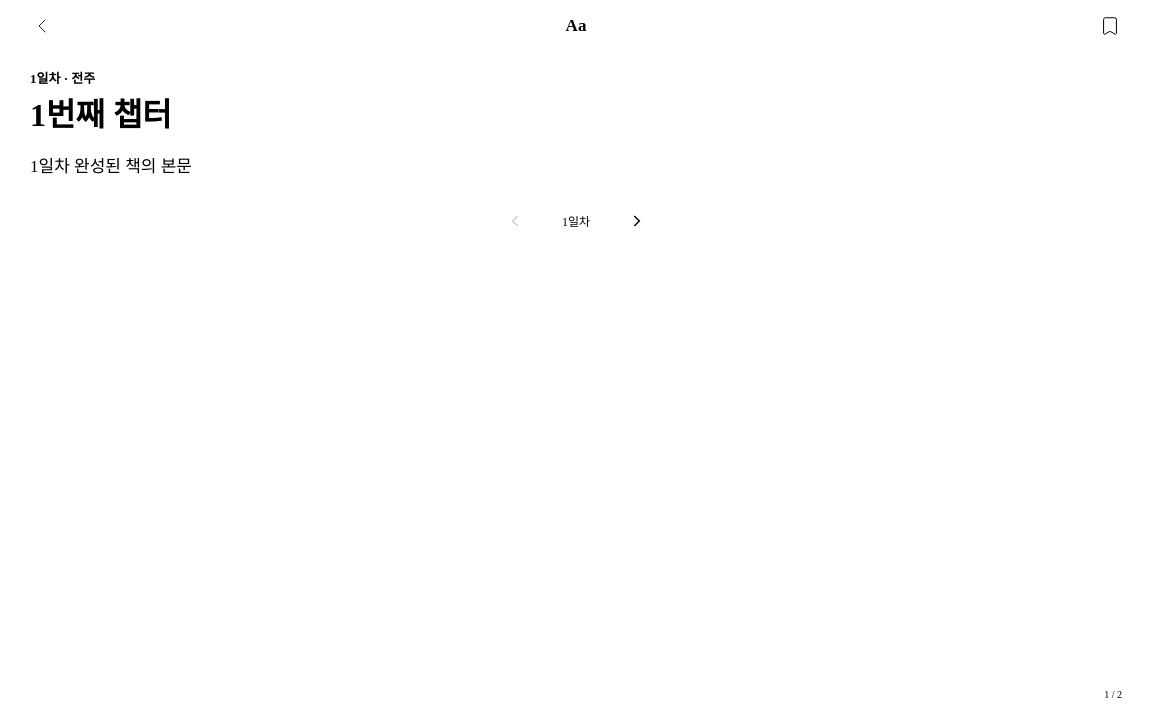
Test: 책으로 엮은 뒤 일차 이동 › 완성된 책에서도 보이는 화살표로 실제 다음·이전 이야기 본문을 읽는다
The image size is (1152, 720).
Expected: the button named "이전 일차 이야기" is disabled, [494,198,538,242]
Expected: the 2nd icon is shown, [626,210,646,230]
Click the button named "다음 일차 이야기" at (636, 220), box [614,198,658,242]
Wait 100 ms
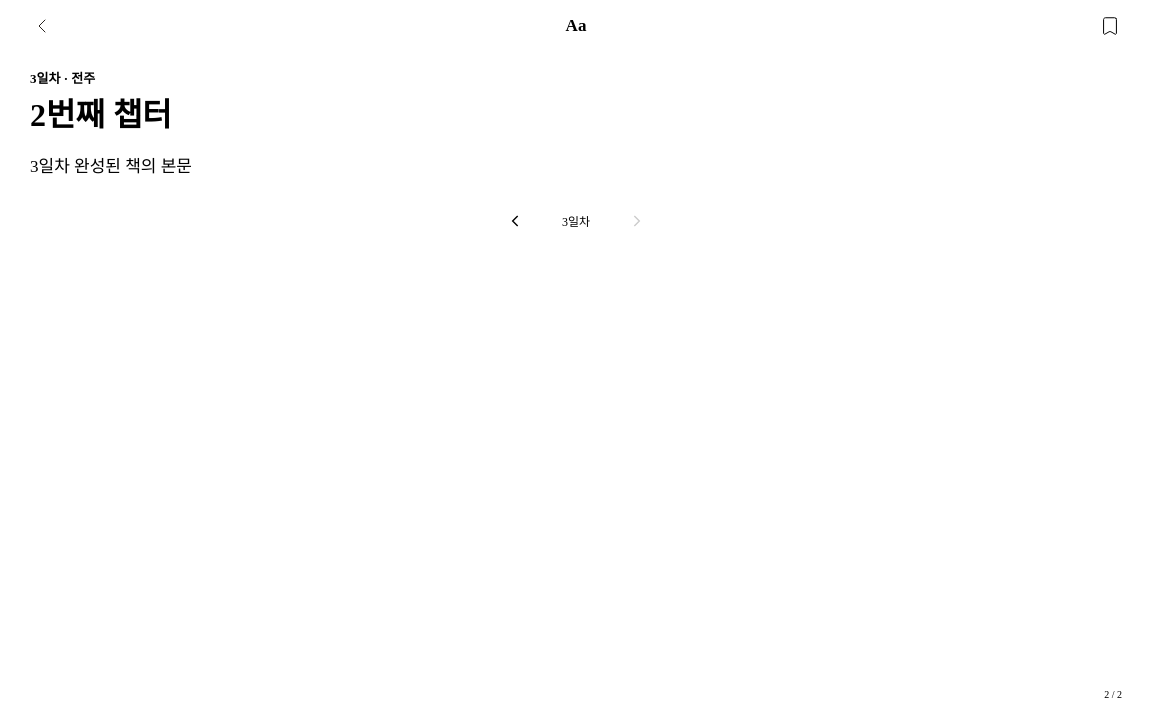
Now the text "3일차 완성된 책의 본문" is shown, box [30,157,192,176]
Now the button named "다음 일차 이야기" is disabled, box [614,198,658,242]
Click the button named "이전 일차 이야기" at (516, 220), box [494,198,538,242]
Wait 100 ms
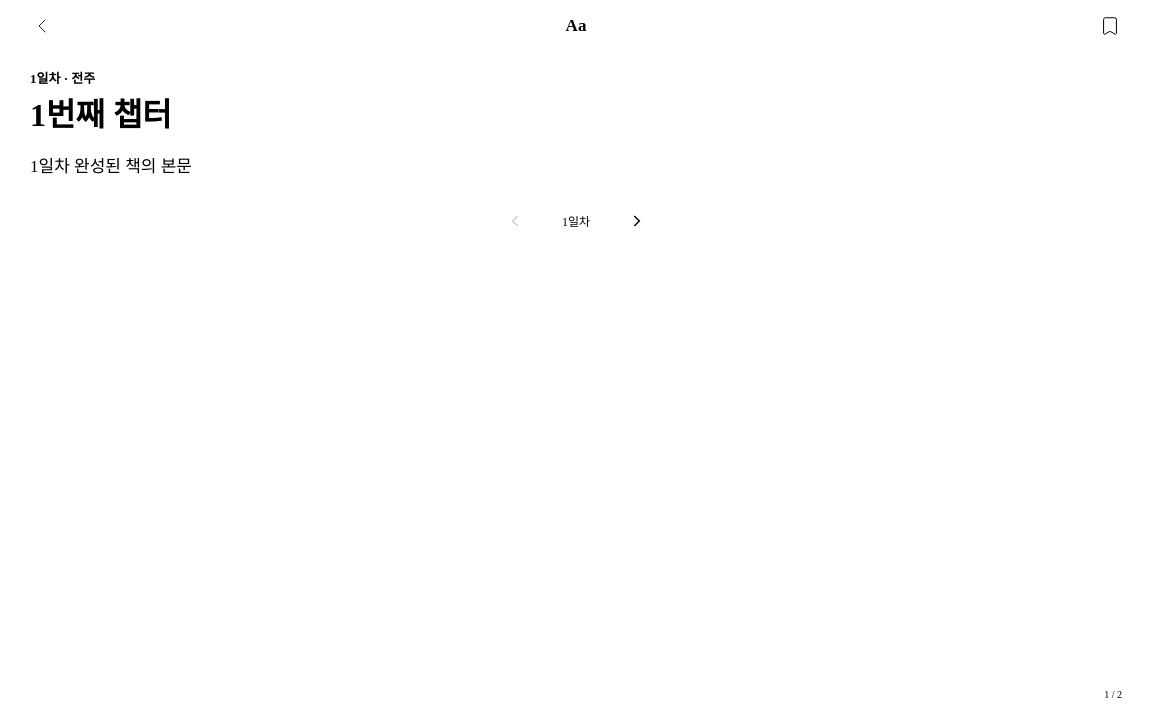
Now the text "1일차 완성된 책의 본문" is shown, box [30,157,192,176]
